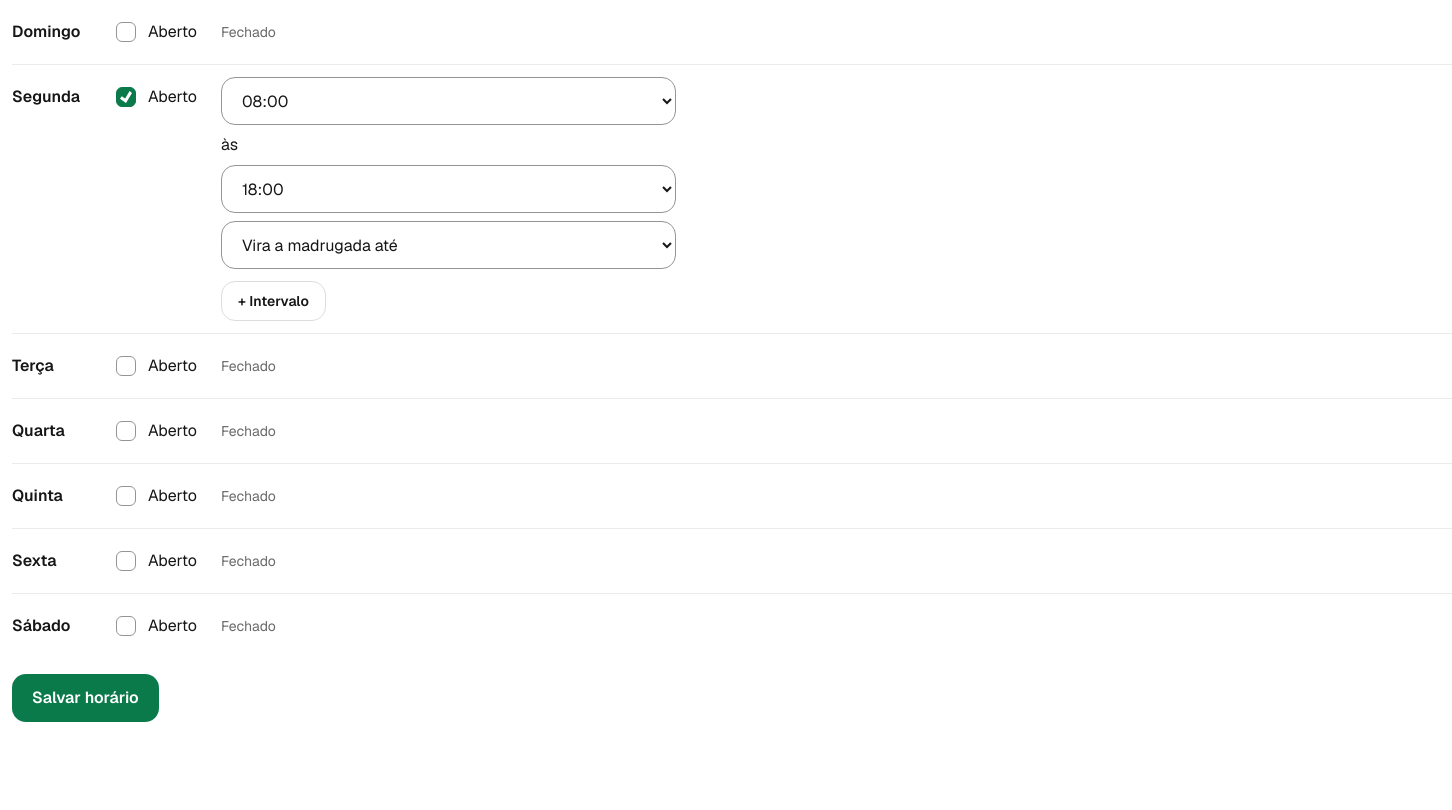
Test: HoursEditor › announces success and refreshes the server data
Step 1. Click the button "Salvar horário" → (85, 698), box 12,674 -> 159,722
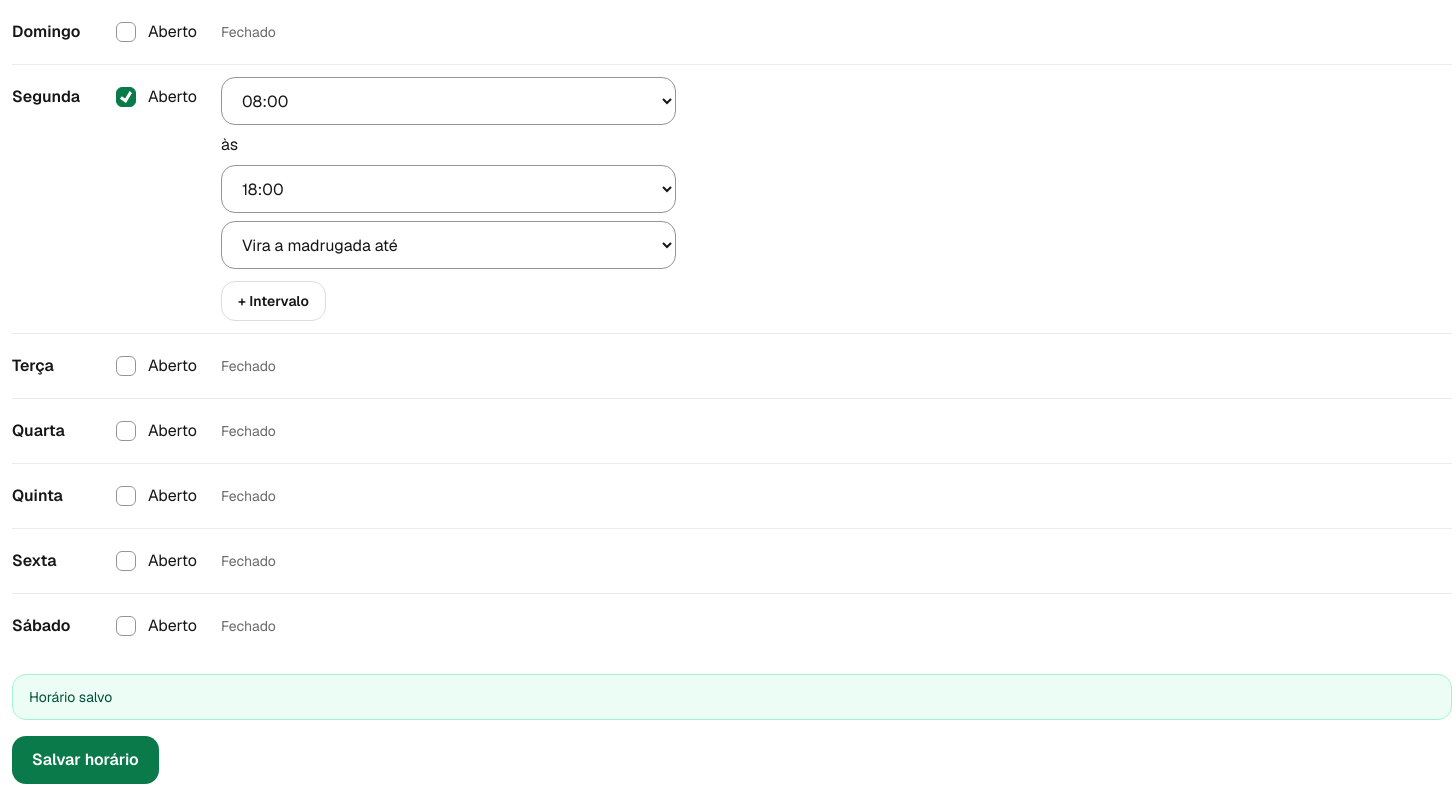
Check: the message reads "Horário salvo", box 29,688 -> 112,706
